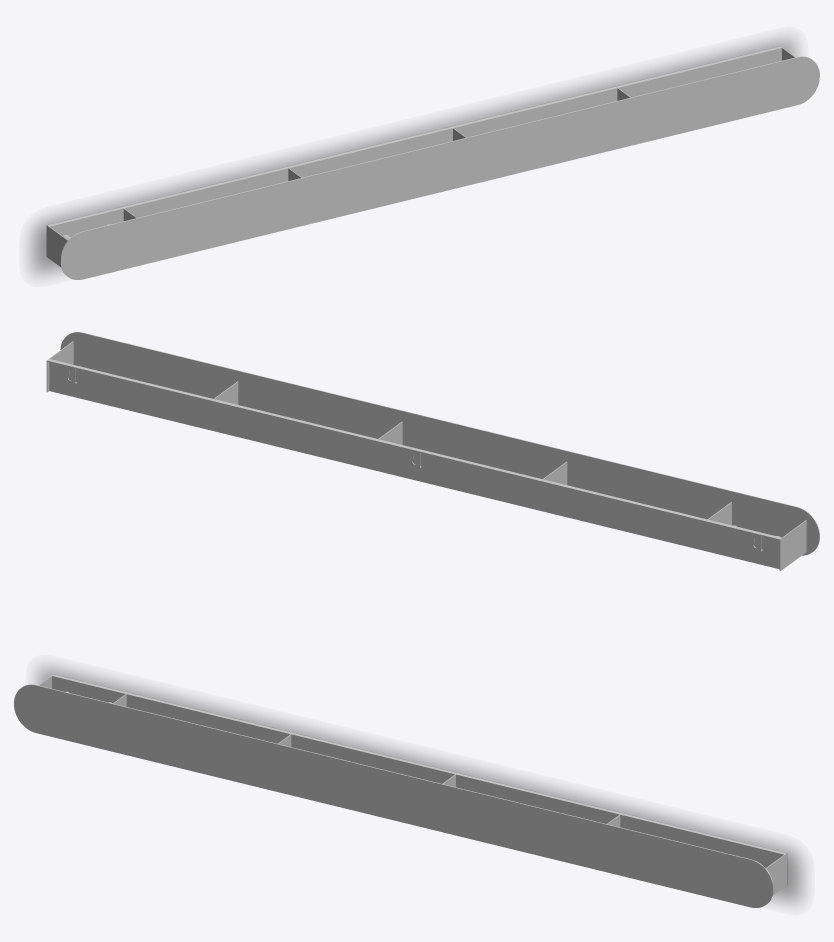
Rendered from round-patron.55bfa0139c.ar.glb.
3 views of the same model, one above another, from view 1: azimuth 30°, elevation 25°; view 2: azimuth 150°, elevation 25°; view 3: azimuth 330°, elevation 25° (orthographic).
Parts seen in each view (by area): view 1: NAUO1, object 2; view 2: NAUO1; view 3: NAUO1, object 2.
Part boxes in pixels (x1,y1,x2,y2): NAUO1: [46, 46, 819, 279]; object 2: [29, 38, 798, 275]; NAUO1: [46, 332, 819, 571]; NAUO1: [14, 674, 787, 907]; object 2: [35, 666, 804, 903].
Bounding box in the file's own units: 1.58 × 0.17 × 0.092.
2 materials, 1 textured.
